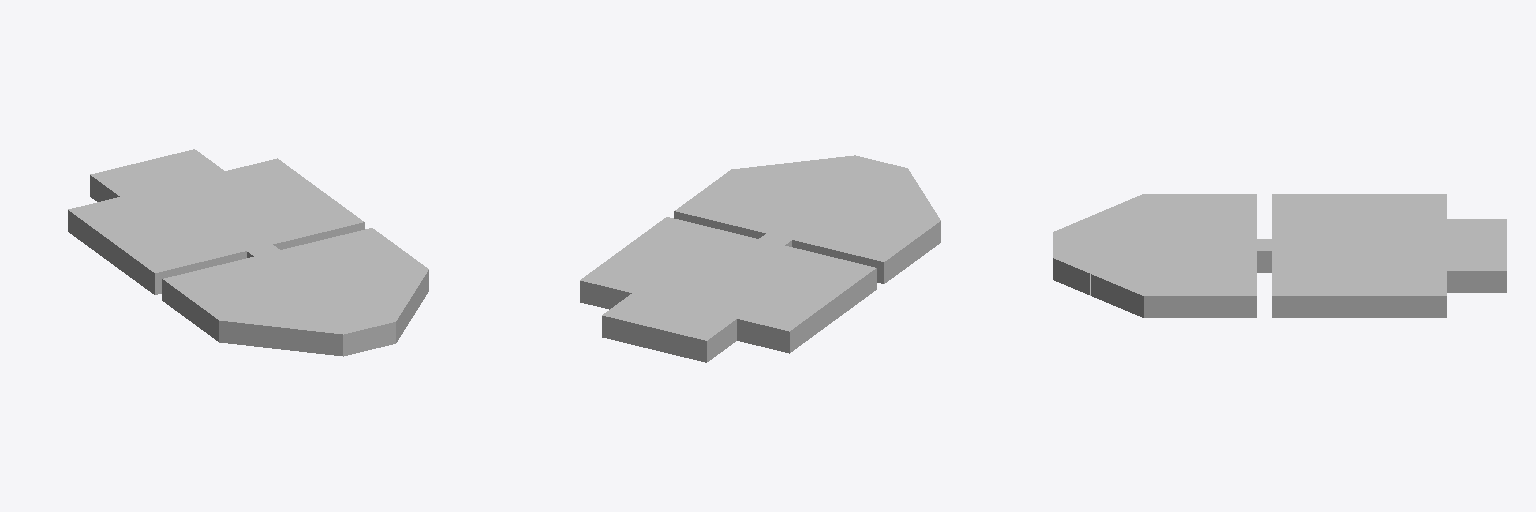
File: Basement.obj
3 renders of one model, left to right at view 1: azimuth 30°, elevation 25°; view 2: azimuth 150°, elevation 25°; view 3: azimuth 270°, elevation 25°, orthographic.
Size of the model in its own units: 80 by 8 by 150.